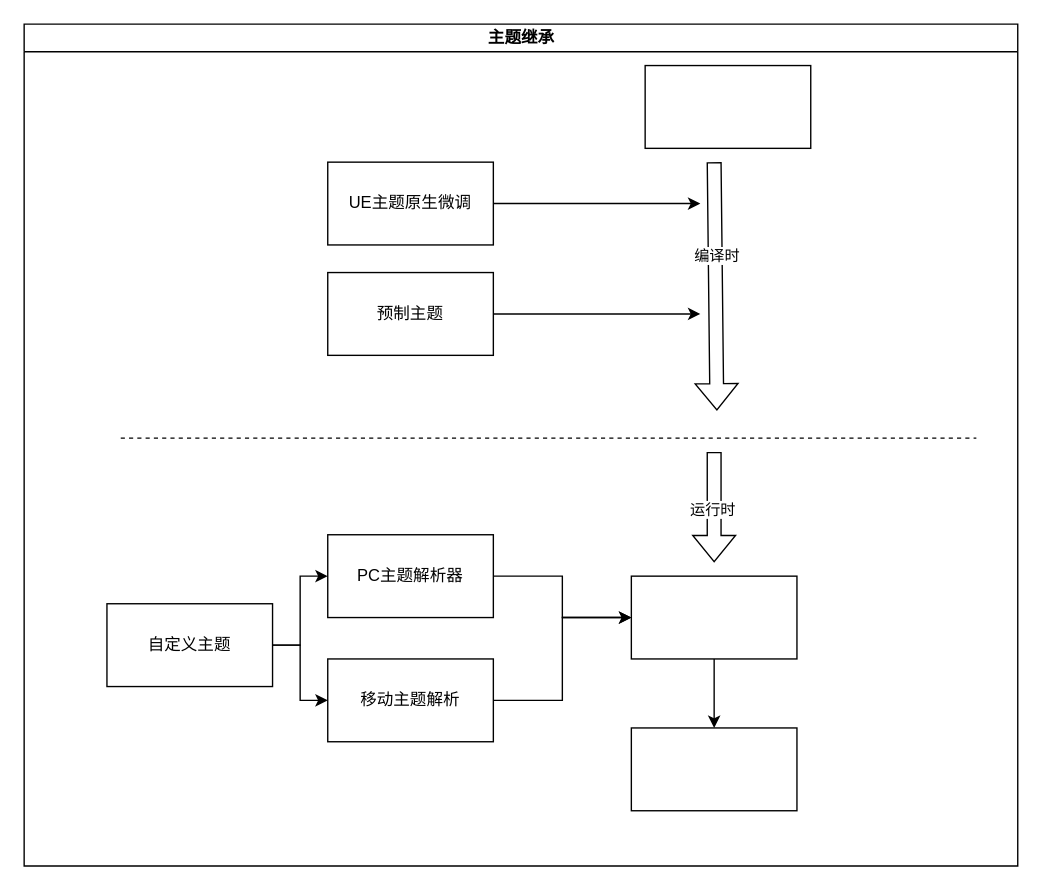
This 1042x890 diagram has some shape labels left out. The shapes that lost their labels are listed below. From the top down, each one's centre as x and y in pixels, then its label:
(727,106): 原生主题
(713,617): 样式合成
(713,769): 最终主题
